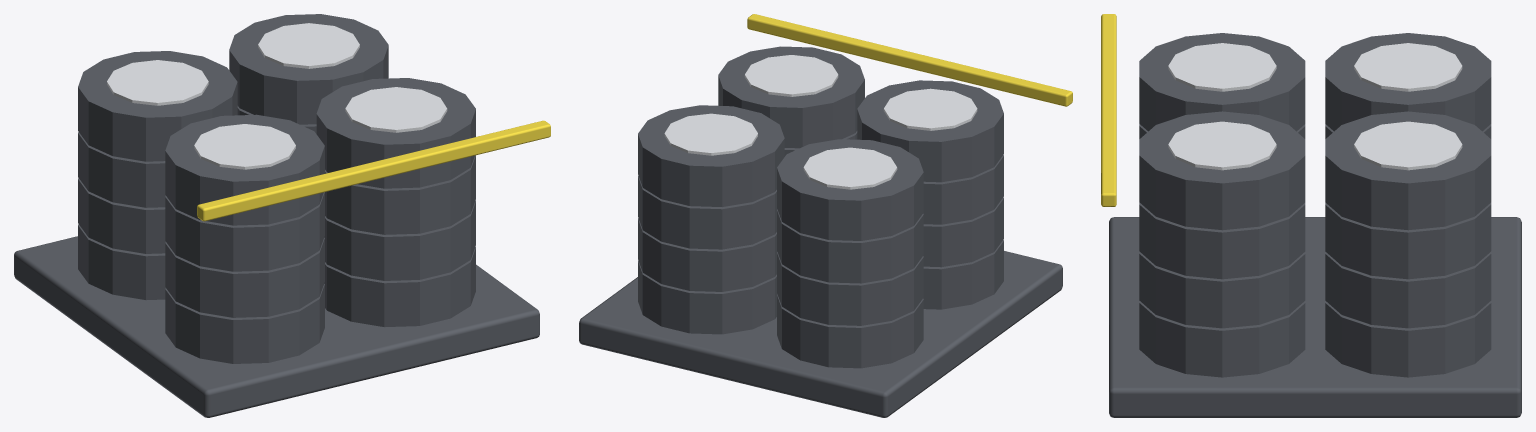
The model's file is wheel-and-tyre-stack.glb.
The picture shows the model from 3 angles, left to right: view 1: azimuth 30°, elevation 25°; view 2: azimuth 150°, elevation 25°; view 3: azimuth 270°, elevation 25°; orthographic projection. The views are drawn at different scales.
Visible parts, largest first — view 1: wheel-and-tyre-stack; view 2: wheel-and-tyre-stack; view 3: wheel-and-tyre-stack.
Boxes of the visible parts, bbox=[...] form: wheel-and-tyre-stack: bbox=[14, 14, 550, 417]; wheel-and-tyre-stack: bbox=[579, 14, 1072, 417]; wheel-and-tyre-stack: bbox=[1101, 14, 1521, 417].
Bounding box in the file's own units: 1.66 × 0.98 × 1.63.
